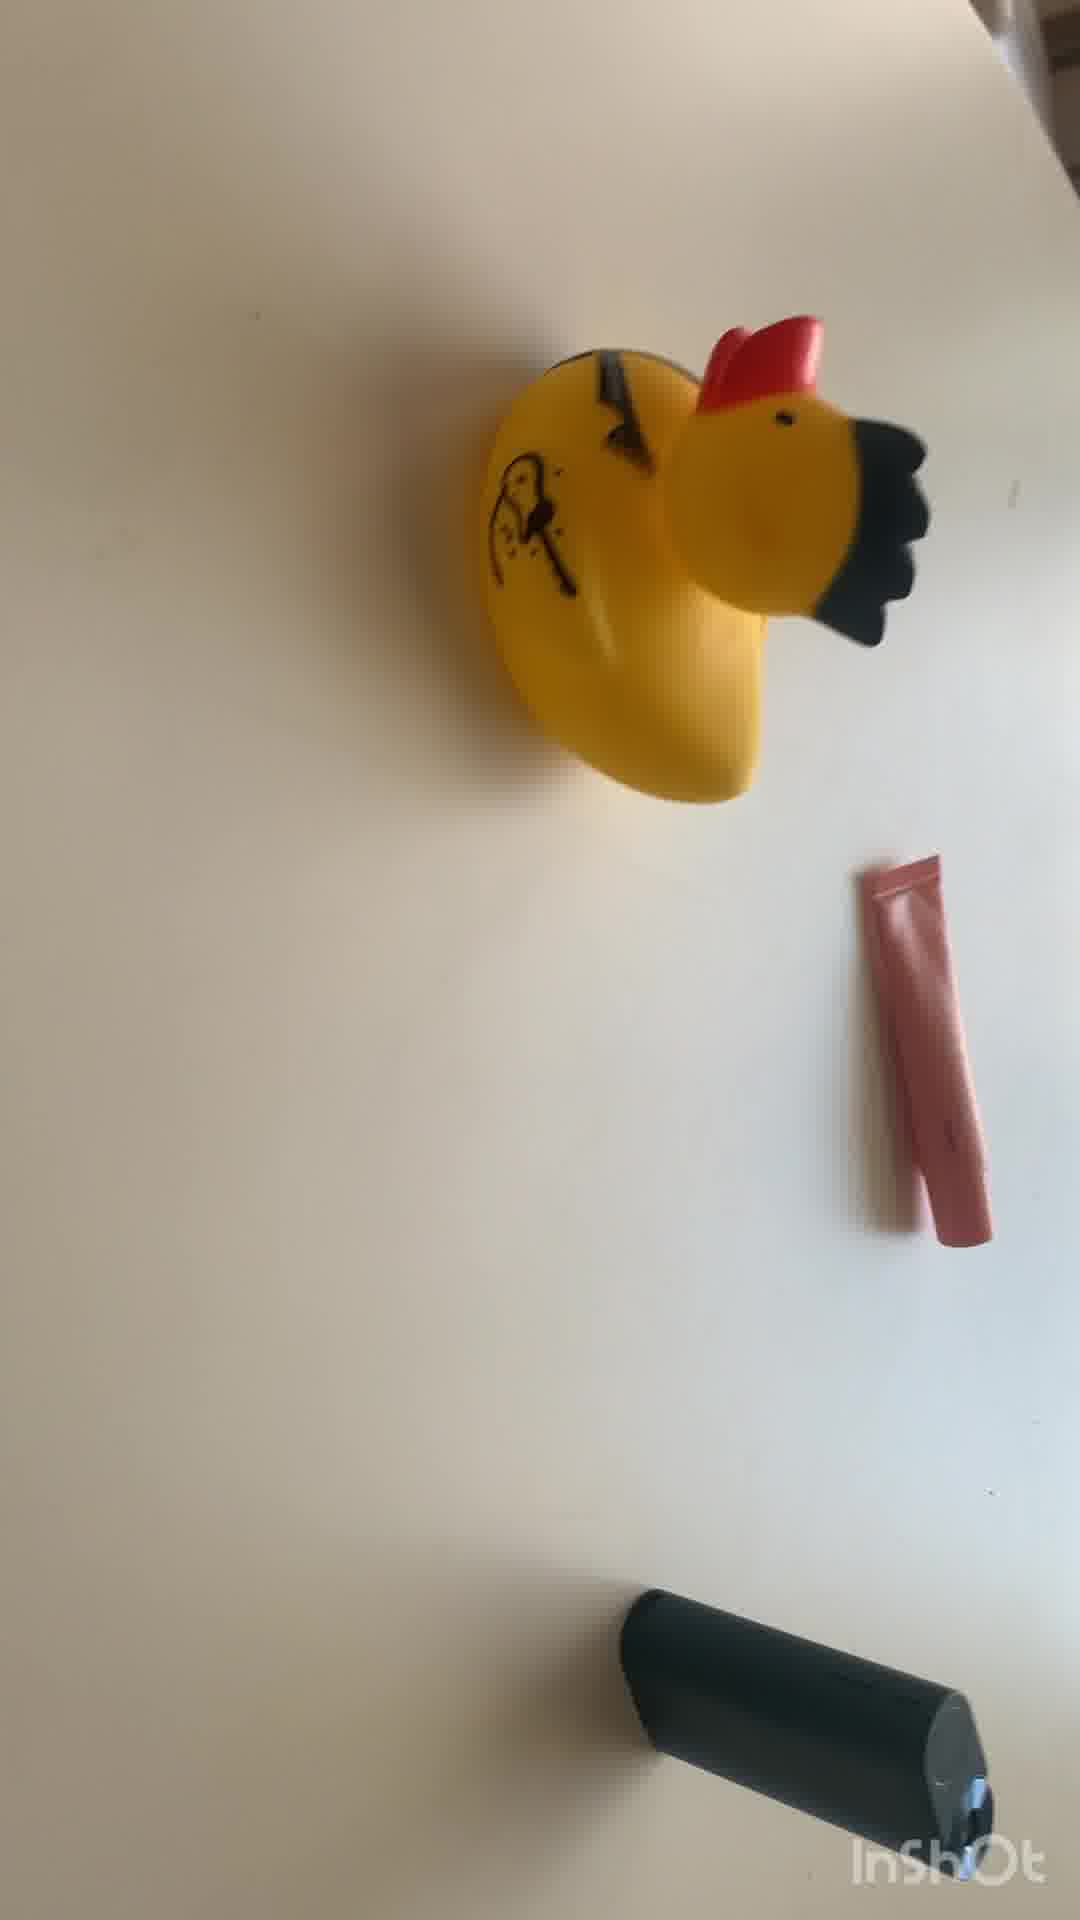duck: (462, 305, 942, 814)
glo: (603, 1590, 1004, 1875)
lip balm: (847, 862, 1007, 1254)
